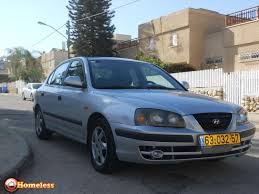licence: (197, 131, 239, 149)
